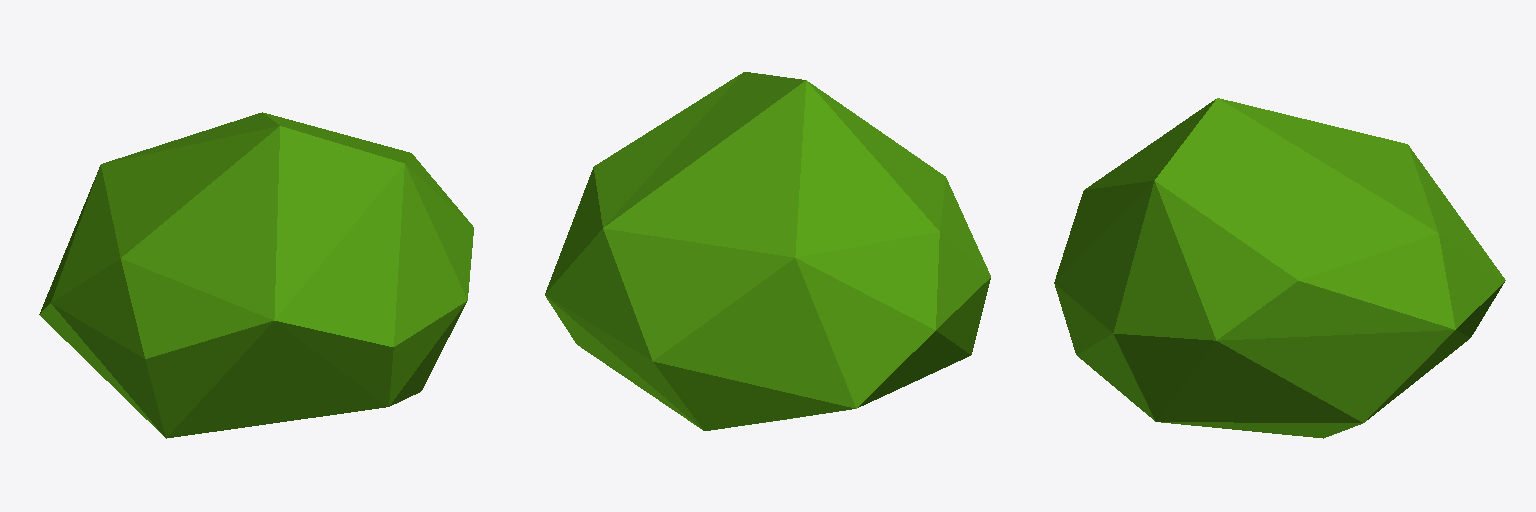
The model's file is bush_2.obj.
3 renders of one model, left to right at view 1: azimuth 30°, elevation 25°; view 2: azimuth 150°, elevation 25°; view 3: azimuth 270°, elevation 25°, orthographic.
Parts seen in each view (by area): view 1: Bush03.001_Icosphere.008; view 2: Bush03.001_Icosphere.008; view 3: Bush03.001_Icosphere.008.
Part boxes in pixels (left/top/right/bottom): Bush03.001_Icosphere.008: left=39, top=112, right=473, bottom=438; Bush03.001_Icosphere.008: left=545, top=72, right=990, bottom=430; Bush03.001_Icosphere.008: left=1054, top=98, right=1505, bottom=438.
Size of the model in its own units: 1.11 by 0.8774 by 1.16.